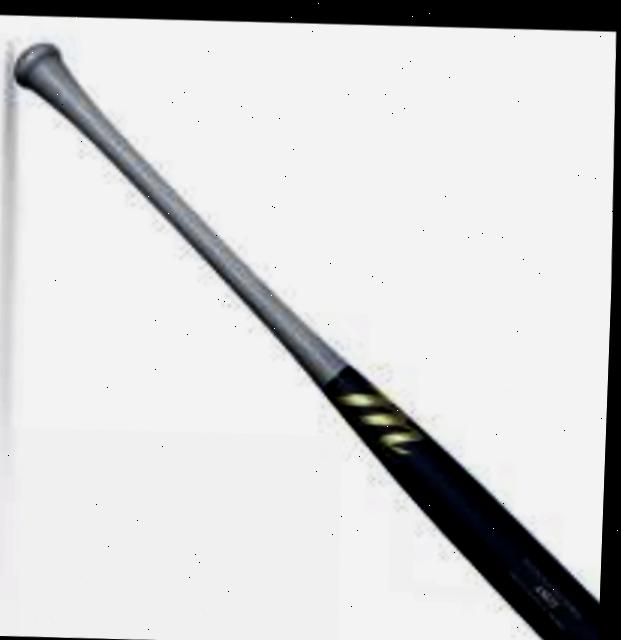baseball bat: (0, 43, 604, 640)
